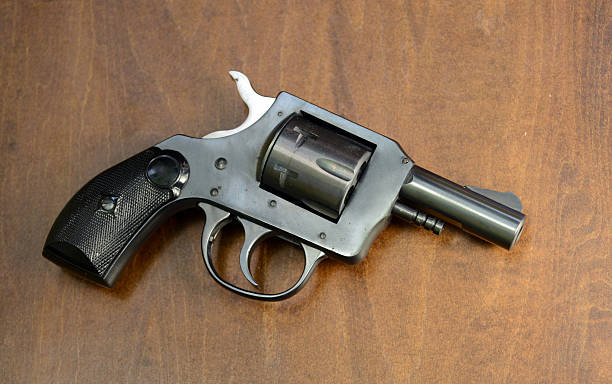gun: (41, 67, 526, 303)
